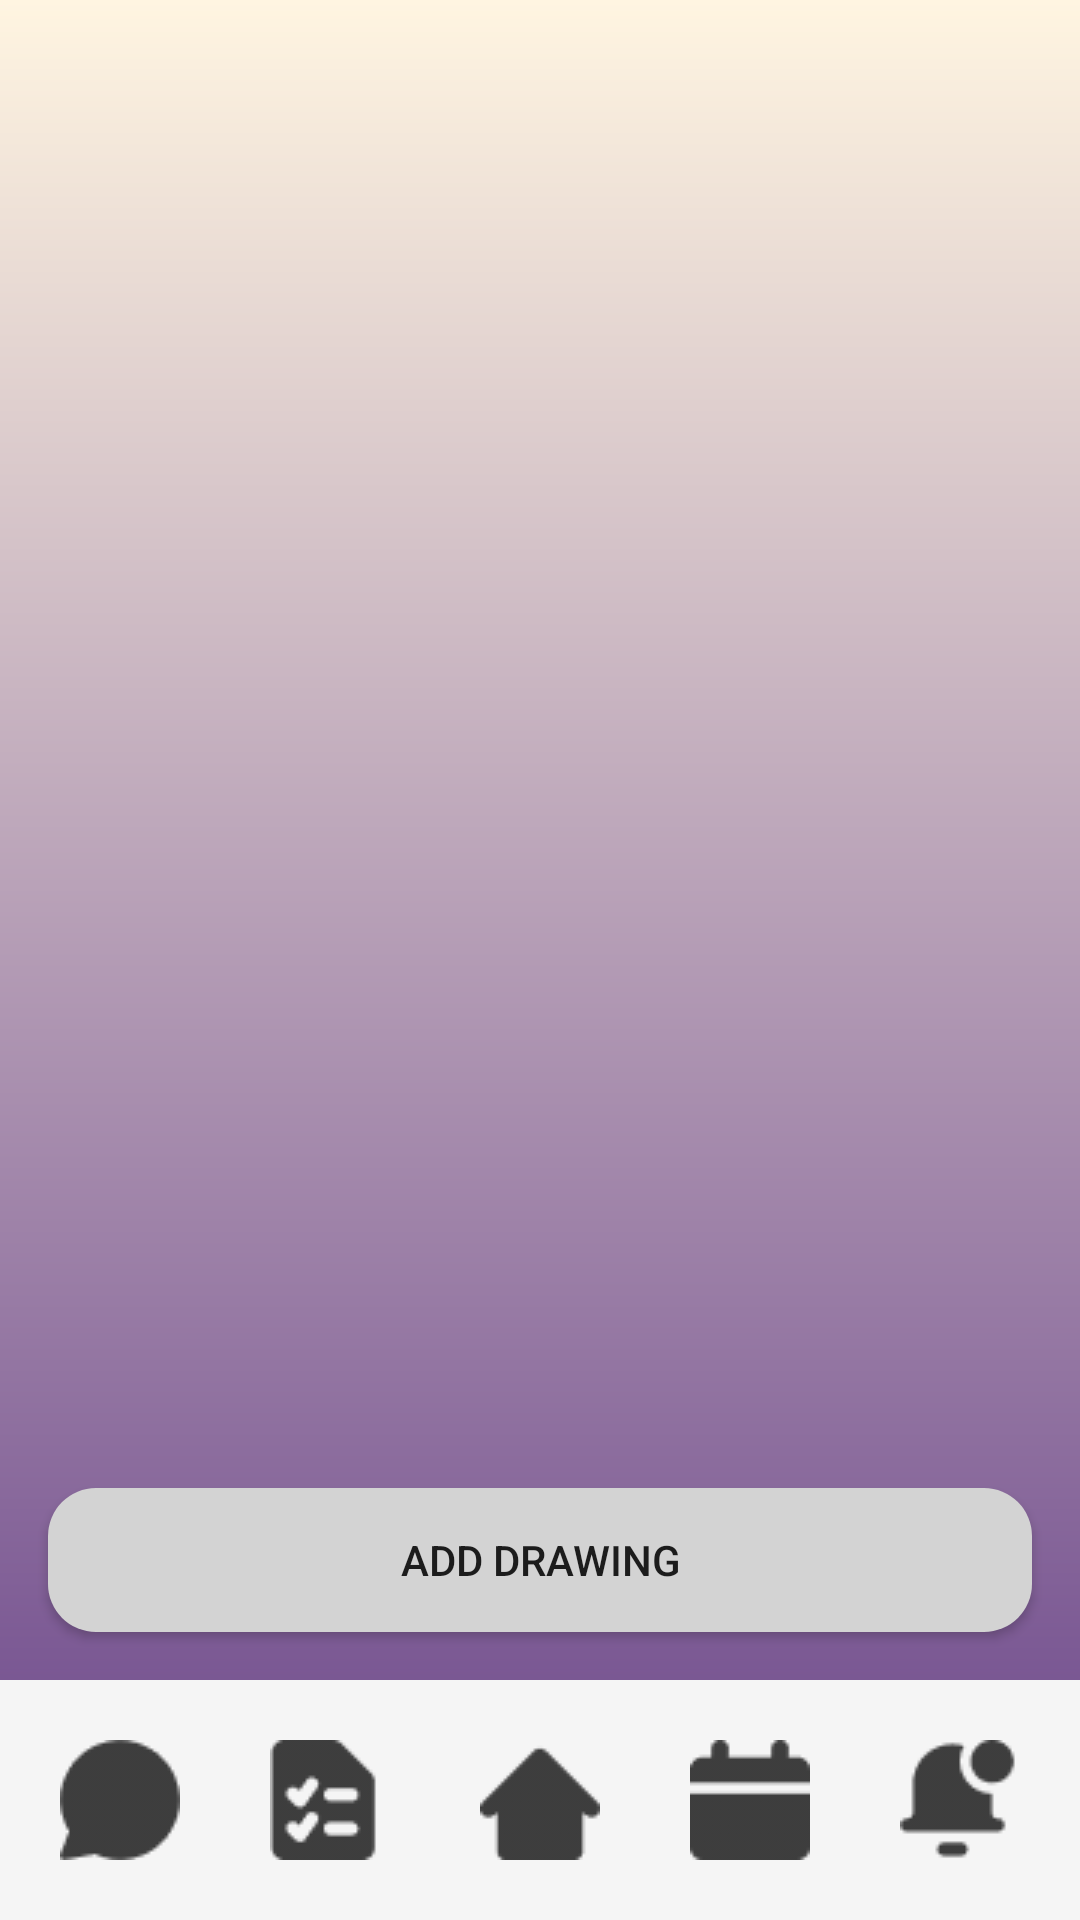

Locate icon controls on the screen. Image size 1080*1920, boxes as (x1, y1, x2, y2).
chat: (60, 1740, 180, 1860)
home: (480, 1748, 600, 1860)
notifications: (900, 1740, 1015, 1858)
task: (270, 1740, 376, 1860)
